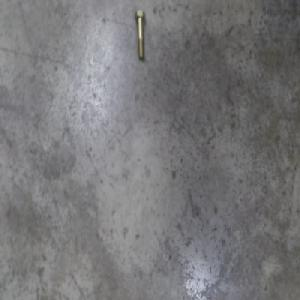Bolt: (136, 16, 149, 64)
